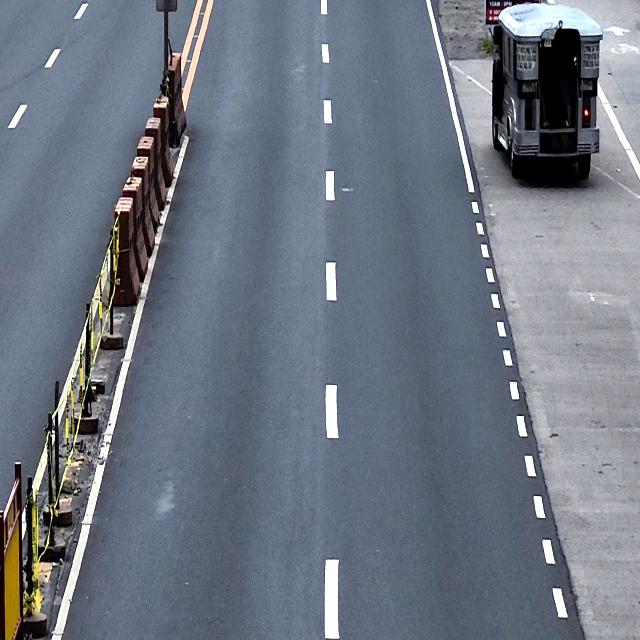Jeep: (488, 1, 602, 180)
